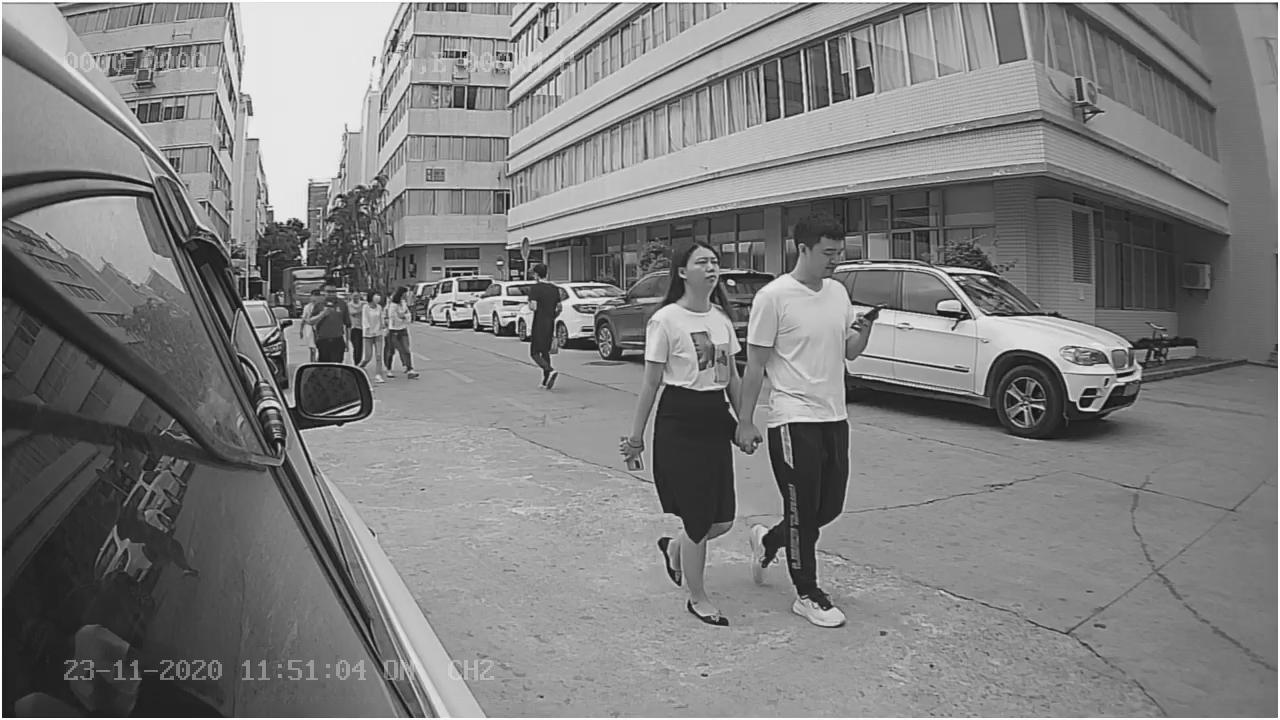person: (624, 229, 758, 629), (517, 265, 564, 388)
